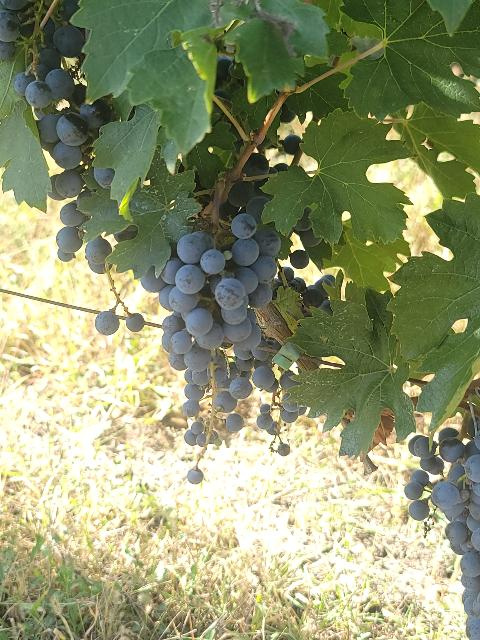grapes: (164, 211, 280, 359)
